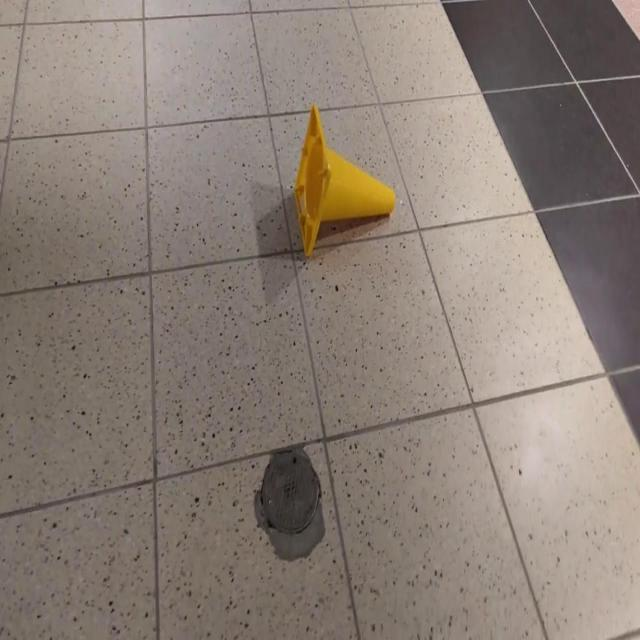frc_cone: (295, 104, 397, 264)
